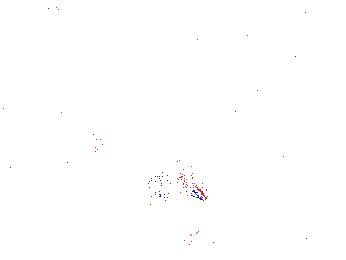flame jellyfish: (22, 131, 104, 184), (136, 154, 206, 211), (63, 155, 124, 215)
